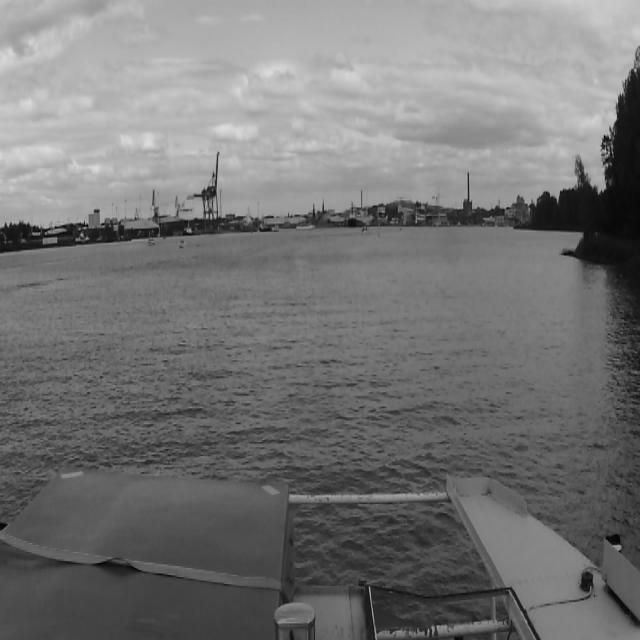buoy: (377, 221, 381, 239)
ship: (360, 185, 371, 239), (347, 199, 357, 231), (178, 238, 186, 251), (147, 236, 155, 246)
